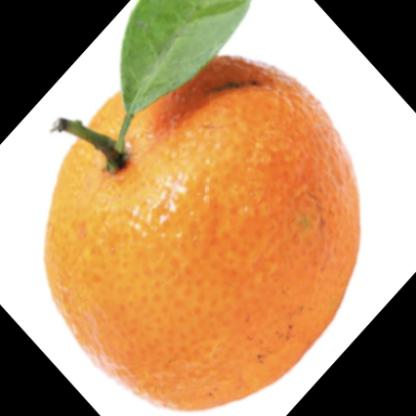fresh: (44, 54, 358, 411)
